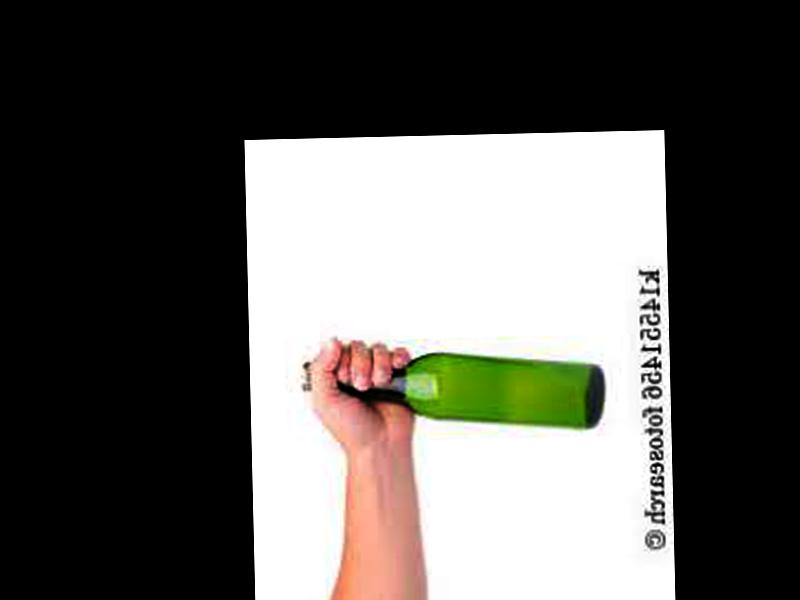Beer: (302, 349, 605, 437)
